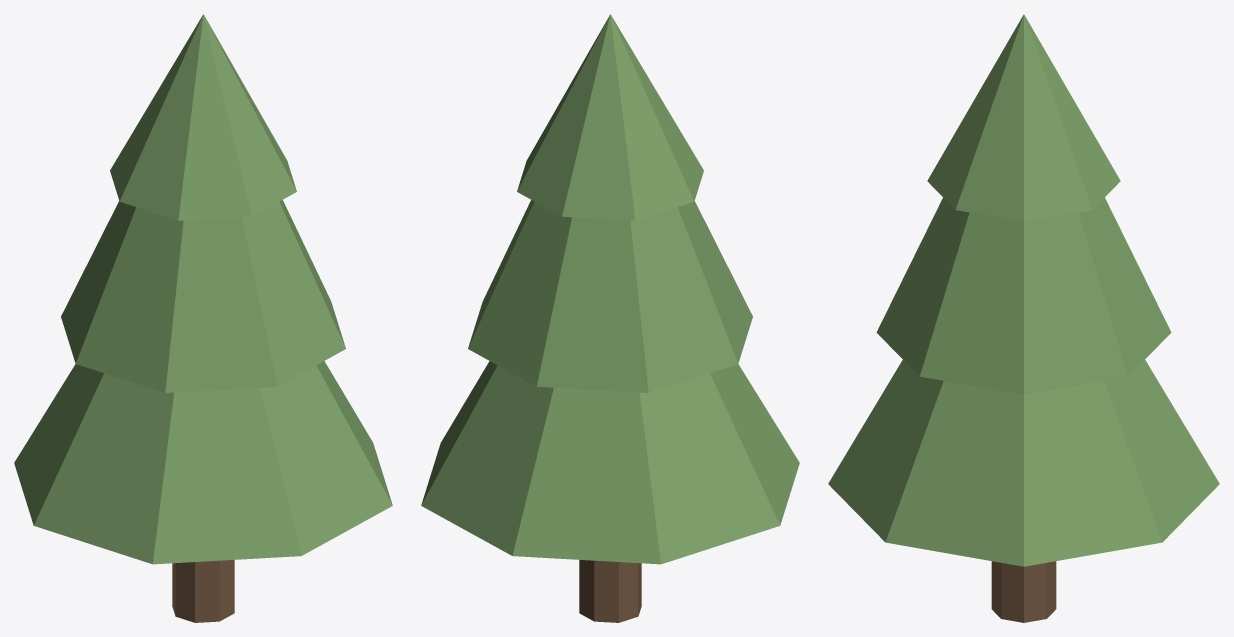
File: tree_pine.glb
3 renders of one model, left to right at view 1: azimuth 30°, elevation 25°; view 2: azimuth 150°, elevation 25°; view 3: azimuth 270°, elevation 25°, orthographic.
Parts seen in each view (by area): view 1: Tier1, Tier2, Tier3, Trunk; view 2: Tier1, Tier2, Tier3, Trunk; view 3: Tier1, Tier2, Tier3, Trunk.
Part boxes in pixels (bbox=[...]): Tier1: bbox=[14, 361, 392, 564]; Tier2: bbox=[61, 200, 345, 392]; Tier3: bbox=[110, 14, 296, 220]; Trunk: bbox=[172, 560, 234, 622]; Tier1: bbox=[421, 361, 799, 564]; Tier2: bbox=[468, 200, 752, 392]; Tier3: bbox=[517, 14, 703, 220]; Trunk: bbox=[579, 560, 641, 622]; Tier1: bbox=[828, 360, 1219, 566]; Tier2: bbox=[876, 197, 1171, 394]; Tier3: bbox=[927, 14, 1120, 221]; Trunk: bbox=[991, 561, 1056, 622].
Bounding box in the file's own units: 1.7 × 2.85 × 1.7.
